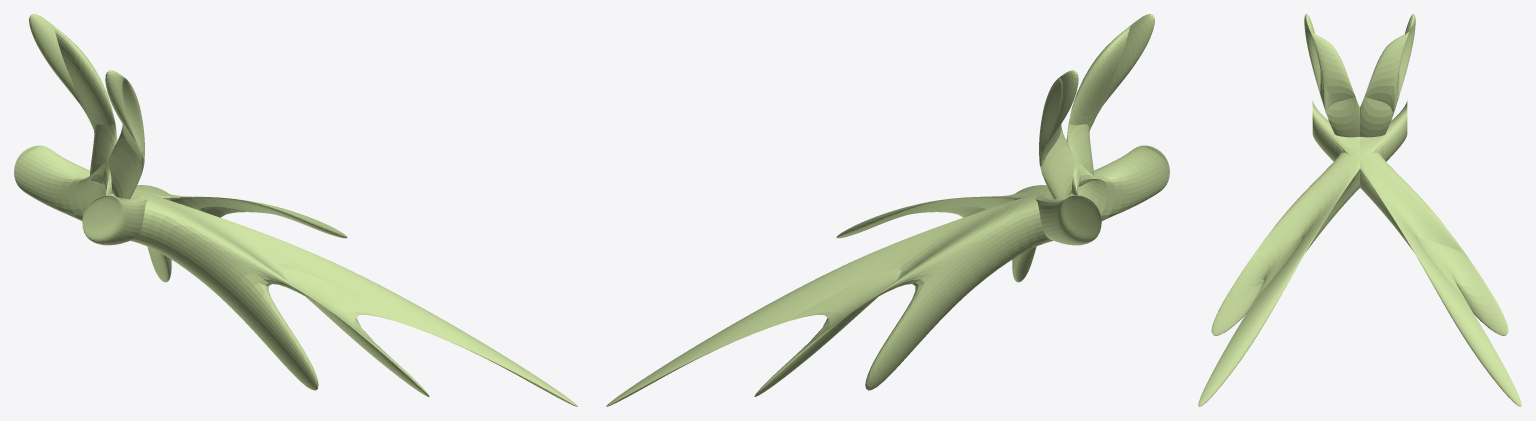
The model's file is Creaturestruc4.obj.
3 views of the same model, side by side, from view 1: azimuth 30°, elevation 25°; view 2: azimuth 150°, elevation 25°; view 3: azimuth 270°, elevation 25° (orthographic). The views are drawn at different scales.
Visible parts, largest first — view 1: Cube_Cube.005; view 2: Cube_Cube.005; view 3: Cube_Cube.005.
Part boxes in pixels (box(x1,y1,x2,y2)): Cube_Cube.005: box(14, 14, 577, 406); Cube_Cube.005: box(606, 14, 1169, 406); Cube_Cube.005: box(1198, 14, 1521, 406).
Size of the model in its own units: 17.96 by 15.54 by 17.5.
